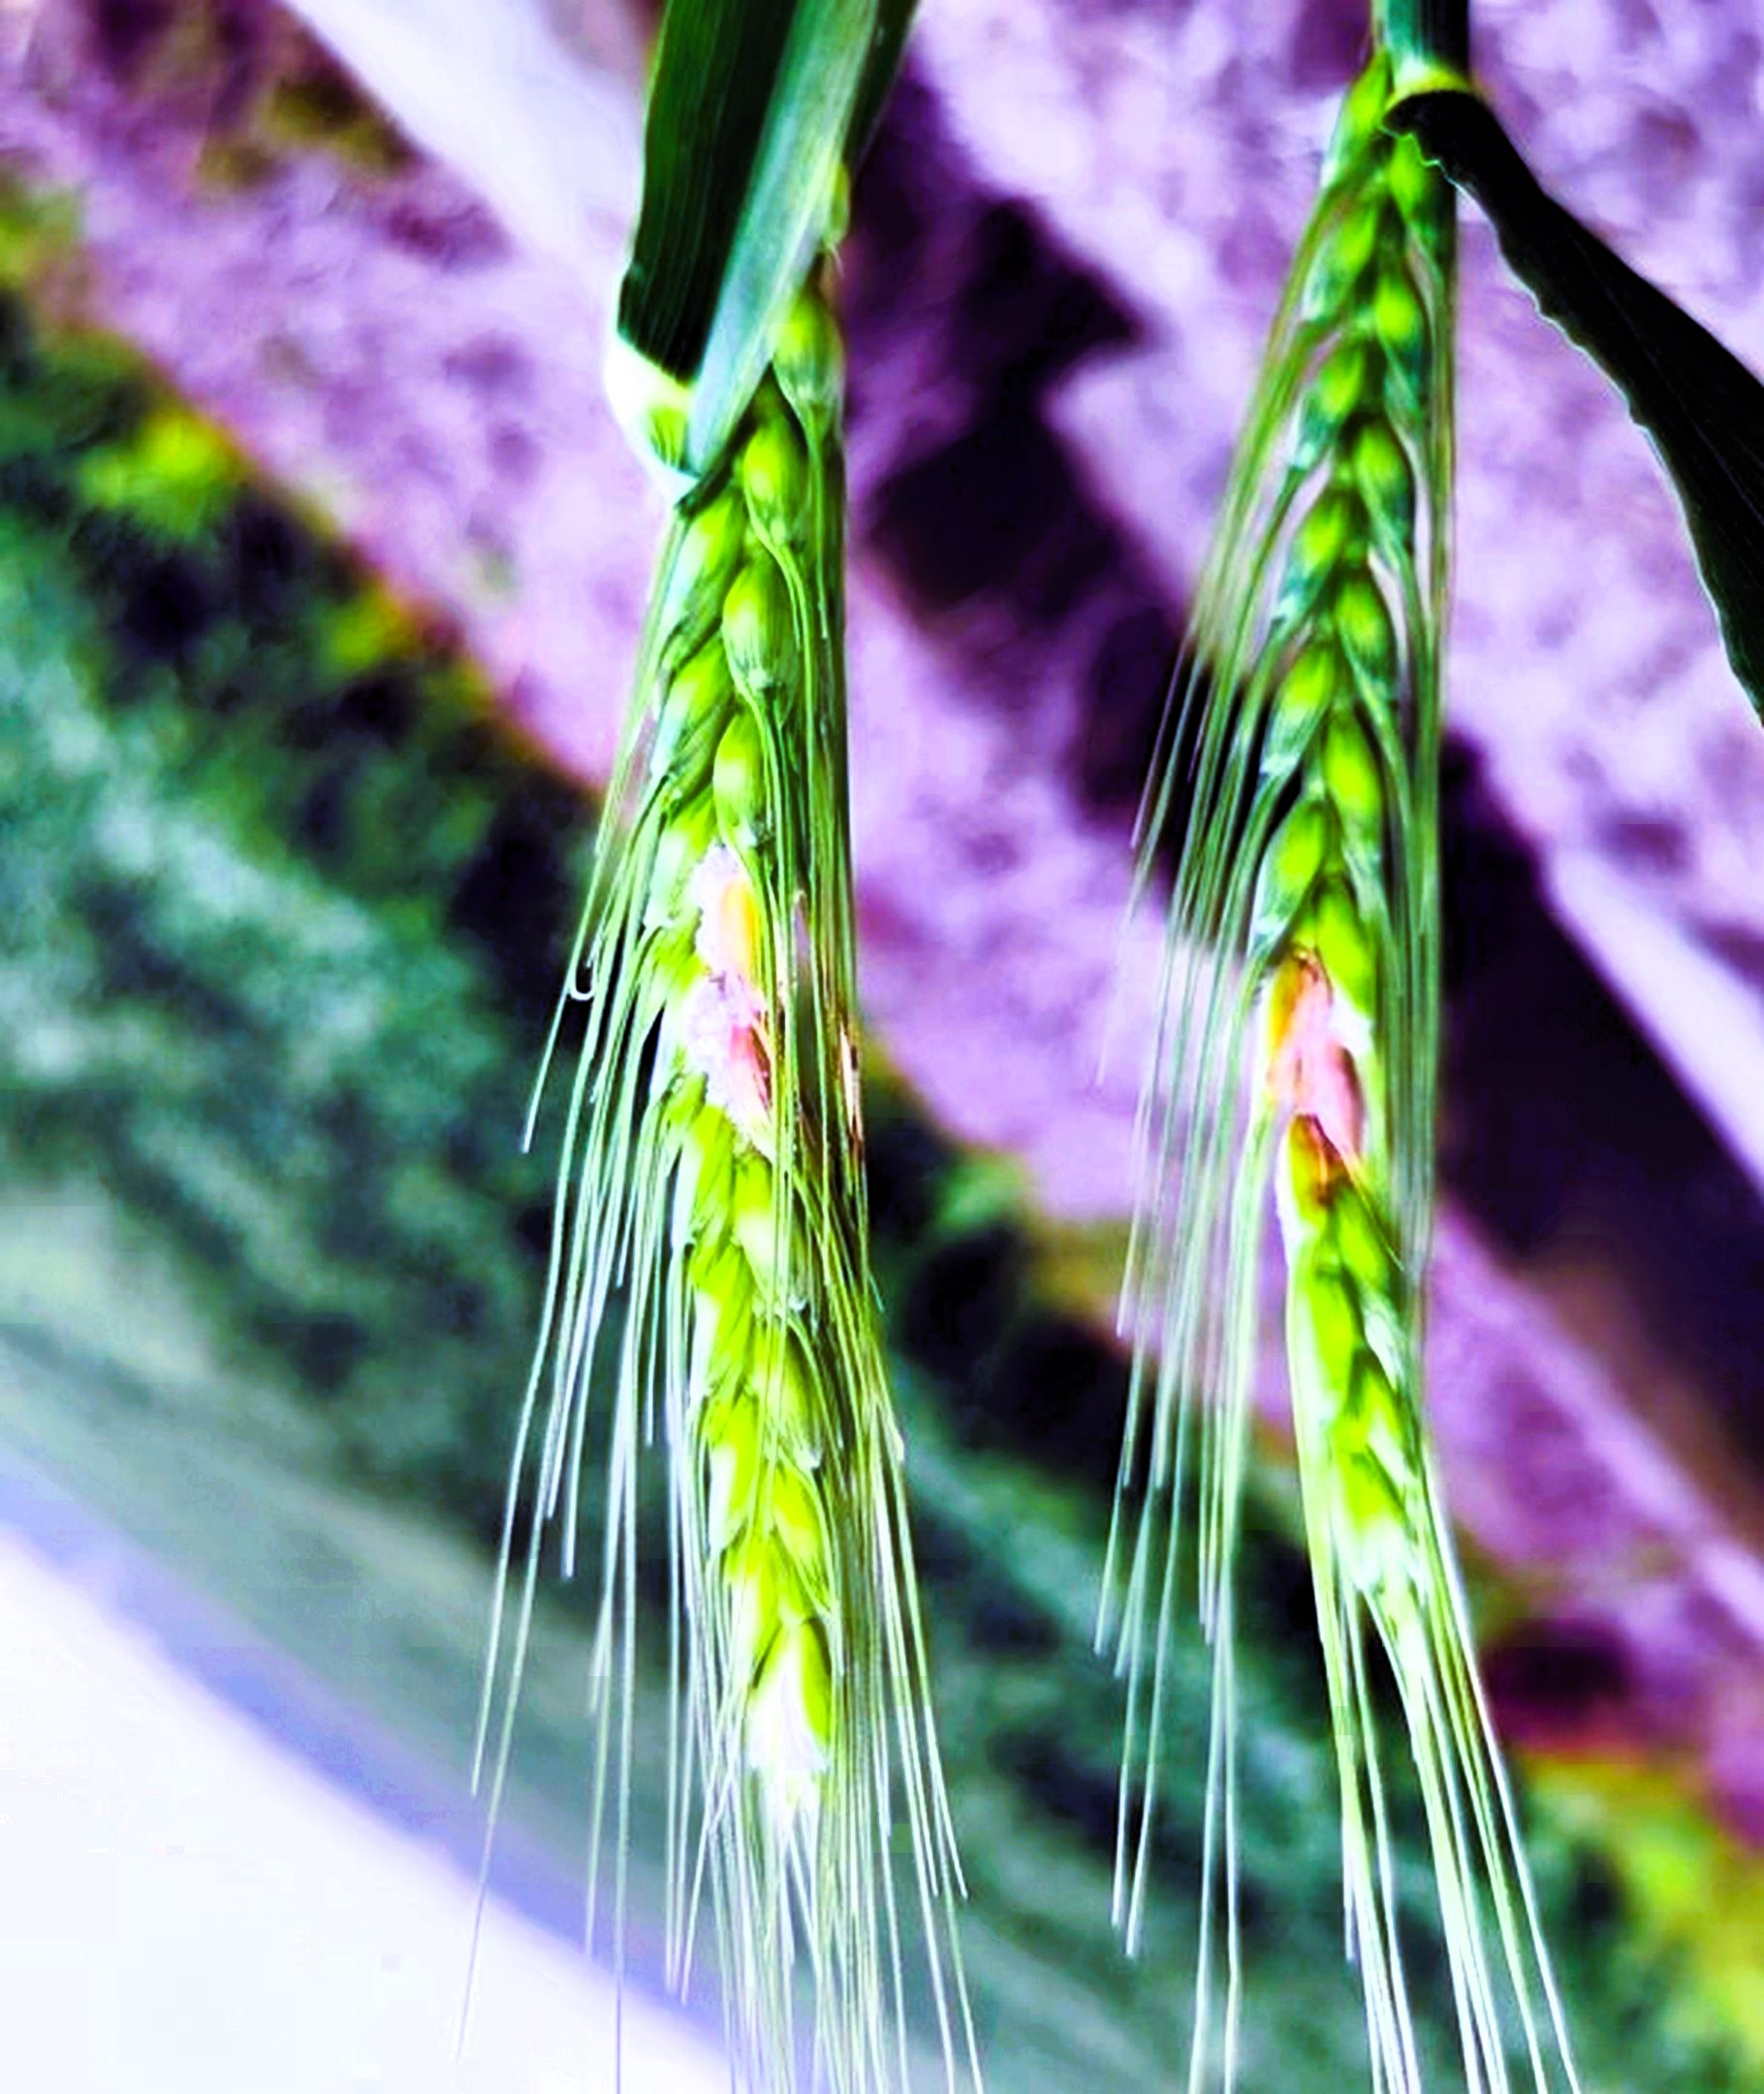Wheat scab: (591, 676, 924, 1378), (1176, 672, 1477, 1371)
